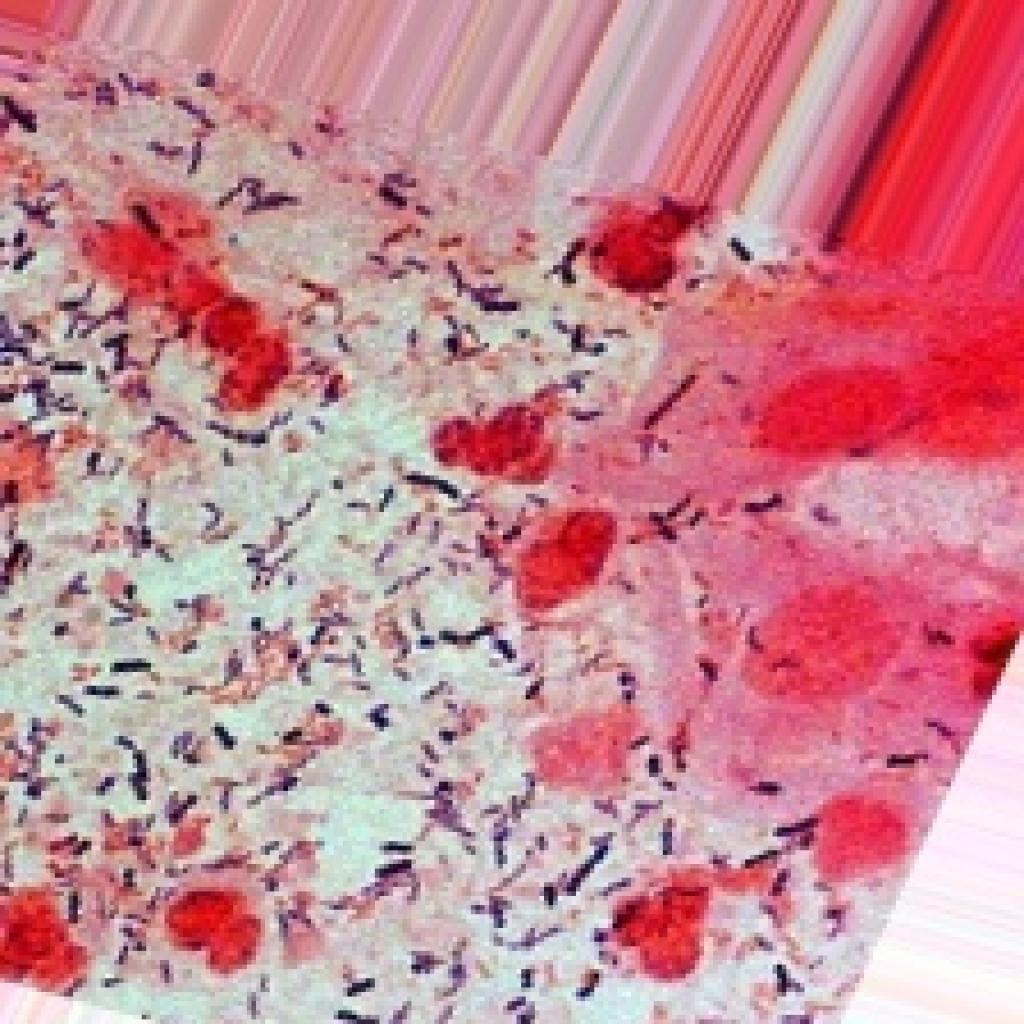Rodbacteria: (0, 27, 1019, 1019)
